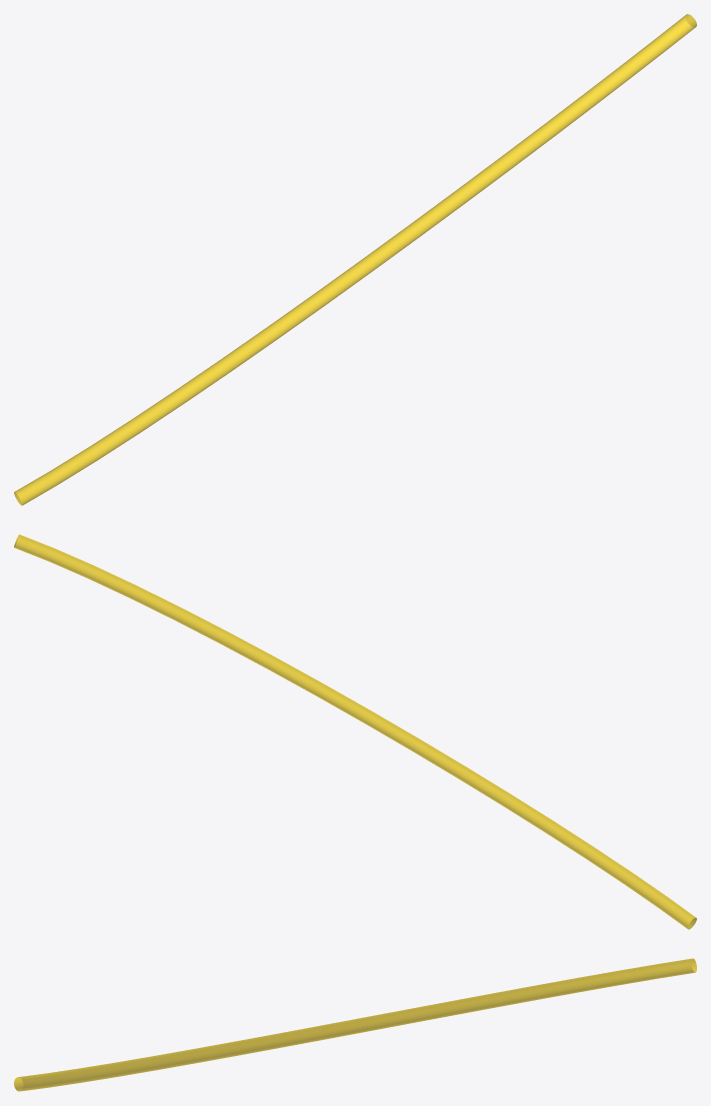
Rendered from Event_84804159_track_40.fbx.
The picture shows the model from 3 angles, top to bottom: view 1: azimuth 30°, elevation 25°; view 2: azimuth 150°, elevation 25°; view 3: azimuth 330°, elevation 25°; orthographic projection. The views are drawn at different scales.
Visible parts, largest first — view 1: Model; view 2: Model; view 3: Model.
Part boxes in pixels (bbox=[...]): Model: bbox=[14, 14, 696, 505]; Model: bbox=[14, 534, 696, 929]; Model: bbox=[14, 958, 696, 1091].
Size of the model in its own units: 2.06 by 0.8012 by 0.2411.
